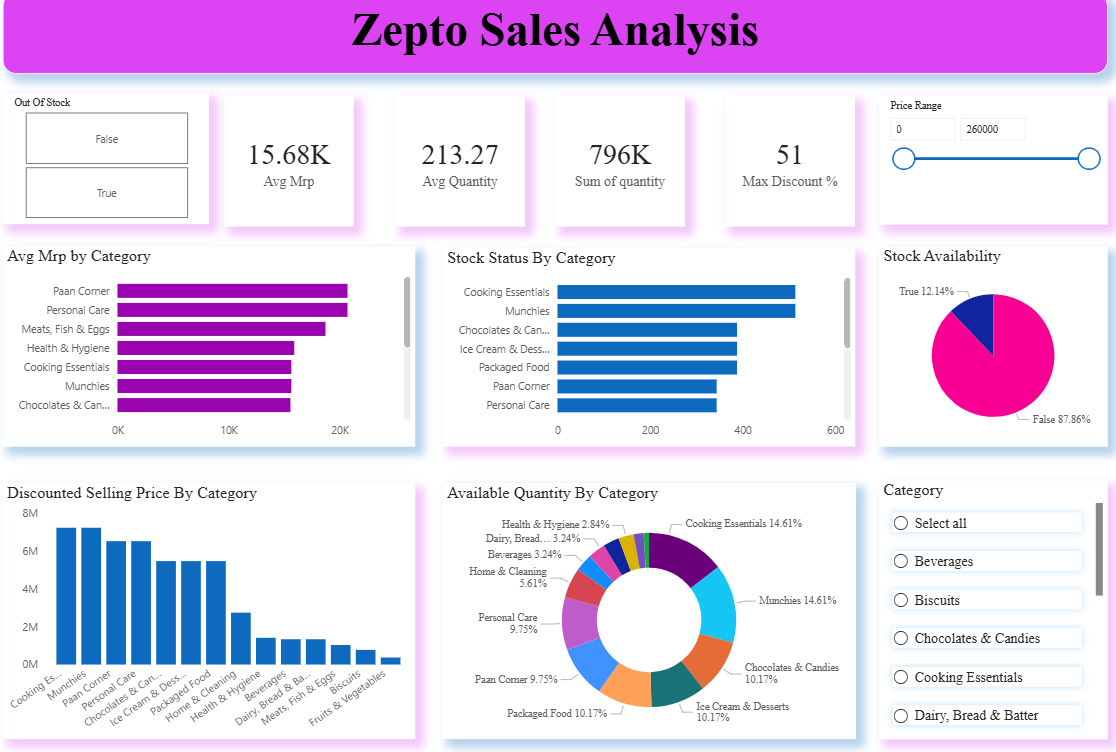

The page's visual inventory and layout, read from the dashboard file:
{"tool":"powerbi","page":{"name":"Page 1","canvas":[1280,900],"ordinal":0},"visuals":[{"type":"textbox","box":[9.6,0,1259.7,91.9],"z":0},{"type":"card","fields":{"Values":["zepto_v2.Avg Mrp"]},"box":[262.3,116.9,148.2,149.7],"z":1000},{"type":"card","fields":{"Values":["zepto_v2.Avg Quantity"]},"box":[457.6,116.9,148.2,149.7],"z":2000},{"type":"card","fields":{"Values":["Sum(zepto_v2.quantity)"]},"box":[640,116.9,148.2,149.7],"z":3000},{"type":"clusteredBarChart","fields":{"Y":["zepto_v2.Avg Mrp"],"Category":["zepto_v2.Category"]},"box":[9.6,289.5,470.7,227.8],"z":4000},{"type":"pieChart","title":"Stock Availability ","fields":{"Category":["zepto_v2.outOfStock"],"Y":["CountNonNull(zepto_v2.quantity)"]},"box":[1008.6,289.5,260.7,227.8],"z":5000},{"type":"listSlicer","fields":{"Values":["zepto_v2.Category"]},"box":[1009.2,555.9,260.8,295.1],"z":6000},{"type":"card","fields":{"Values":["zepto_v2.Max Discount %"]},"box":[833.9,116.9,148.2,149.7],"z":7000},{"type":"slicer","fields":{"Values":["zepto_v2.outOfStock"]},"box":[10,114,235.2,149.7],"z":8000},{"type":"clusteredBarChart","title":"Stock Status By Category","fields":{"Category":["zepto_v2.Category"],"Y":["CountNonNull(zepto_v2.outOfStock)"]},"box":[511.8,290.9,470.7,226.4],"z":9000},{"type":"clusteredColumnChart","title":"Discounted Selling Price By Category","fields":{"Category":["zepto_v2.Category"],"Y":["Sum(zepto_v2.discountedSellingPrice)"]},"box":[10,558.8,470.4,292.2],"z":10000},{"type":"donutChart","title":"Available Quantity By Category","fields":{"Category":["zepto_v2.Category"],"Y":["Sum(zepto_v2.availableQuantity)"]},"box":[512,559,471,292],"z":10001},{"type":"slicer","fields":{"Values":["zepto_v2.mrp"]},"box":[1009.2,116.9,260.8,146.8],"z":10002}]}

Visuals, with their boxes on the page's 1280x900 design canvas (x1, y1, x2, y2). These are canvas units, not pixel positions in the 1116x752 screenshot, which may show the page scaled, cropped or inside an application window:
textbox: (10,0,1269,92)
card - zepto_v2.Avg Mrp: (262,117,410,267)
card - zepto_v2.Avg Quantity: (458,117,606,267)
card - Sum(zepto_v2.quantity): (640,117,788,267)
clusteredBarChart - zepto_v2.Avg Mrp x zepto_v2.Category: (10,290,480,517)
"Stock Availability " pieChart: (1009,290,1269,517)
listSlicer - zepto_v2.Category: (1009,556,1270,851)
card - zepto_v2.Max Discount %: (834,117,982,267)
slicer - zepto_v2.outOfStock: (10,114,245,264)
"Stock Status By Category" clusteredBarChart: (512,291,982,517)
"Discounted Selling Price By Category" clusteredColumnChart: (10,559,480,851)
"Available Quantity By Category" donutChart: (512,559,983,851)
slicer - zepto_v2.mrp: (1009,117,1270,264)
